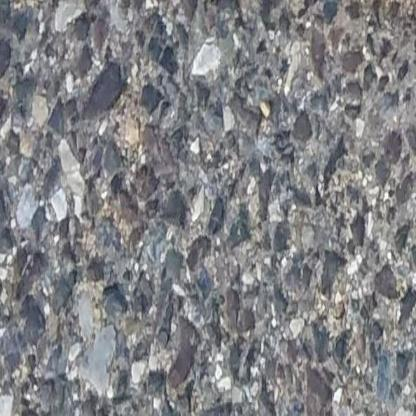Cracks: (338, 0, 416, 54)
